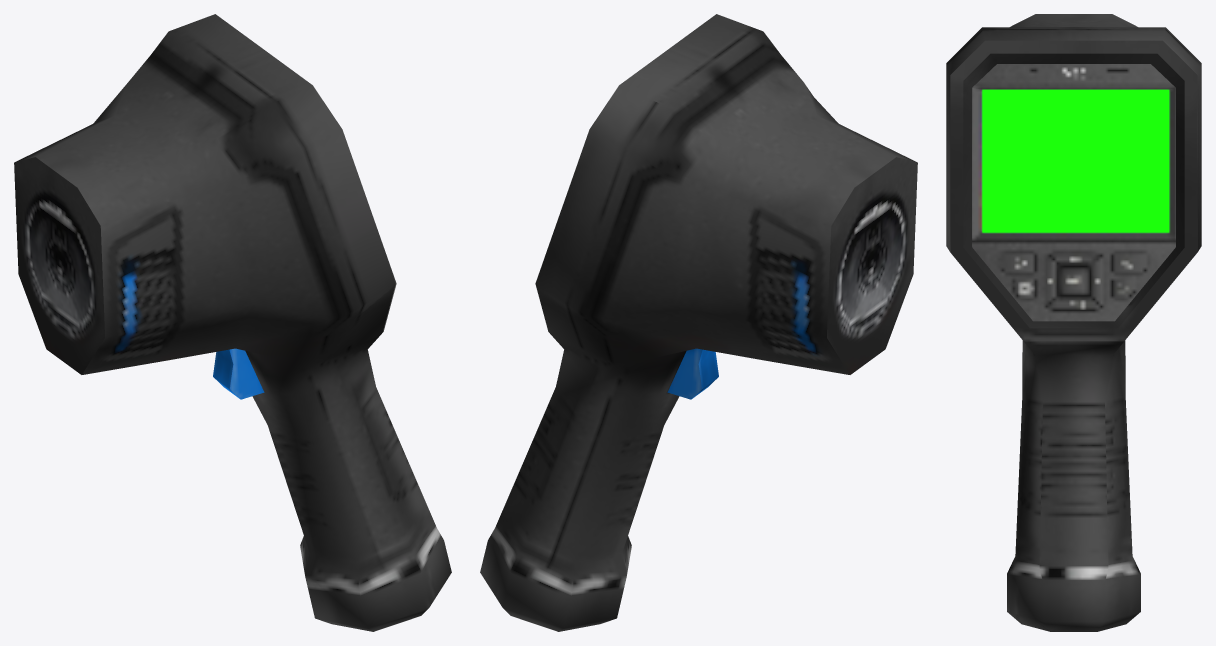
The model's file is Thermal_Camera.fbx.
3 renders of one model, left to right at view 1: azimuth 30°, elevation 25°; view 2: azimuth 150°, elevation 25°; view 3: azimuth 270°, elevation 25°, orthographic. The views are drawn at different scales.
Visible parts, largest first — view 1: Thermal_Camera; view 2: Thermal_Camera; view 3: Thermal_Camera.
Part boxes in pixels (x1,y1,x2,y2): Thermal_Camera: (14,14,451,631); Thermal_Camera: (480,14,917,631); Thermal_Camera: (946,14,1201,631).
Bounding box in the file's own units: 21.64 × 32.23 × 13.84.
